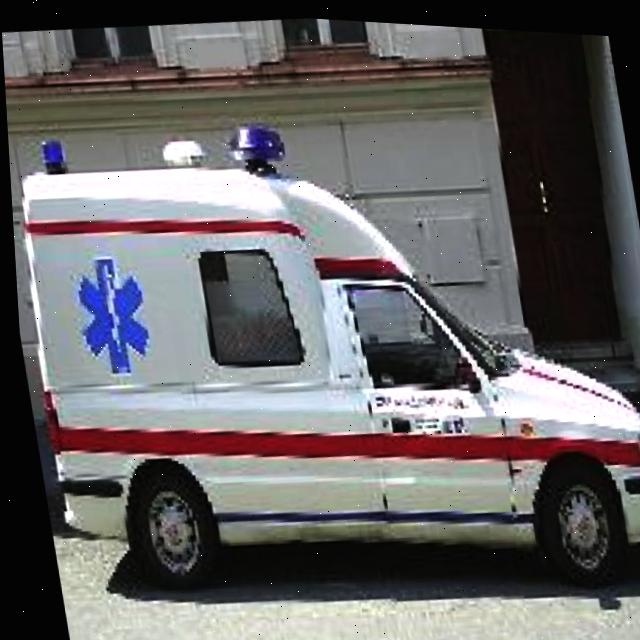emergency: (3, 67, 640, 635)
